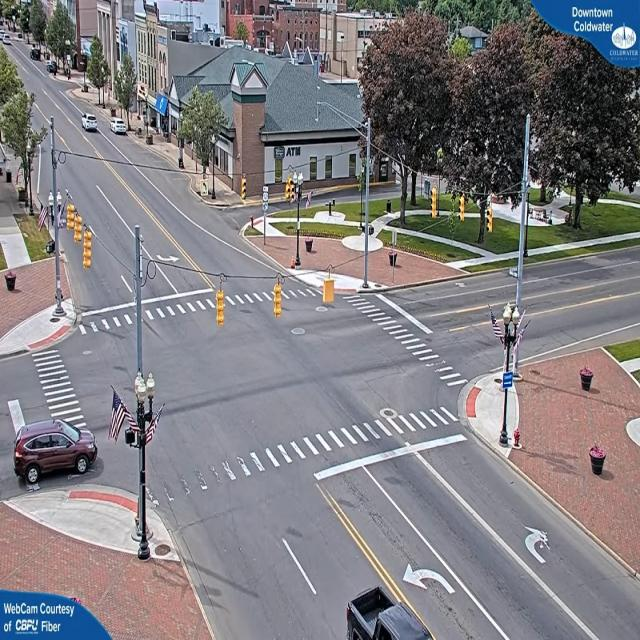car: (12, 418, 99, 488)
